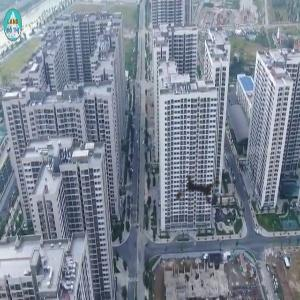drone: (146, 141, 250, 245)
